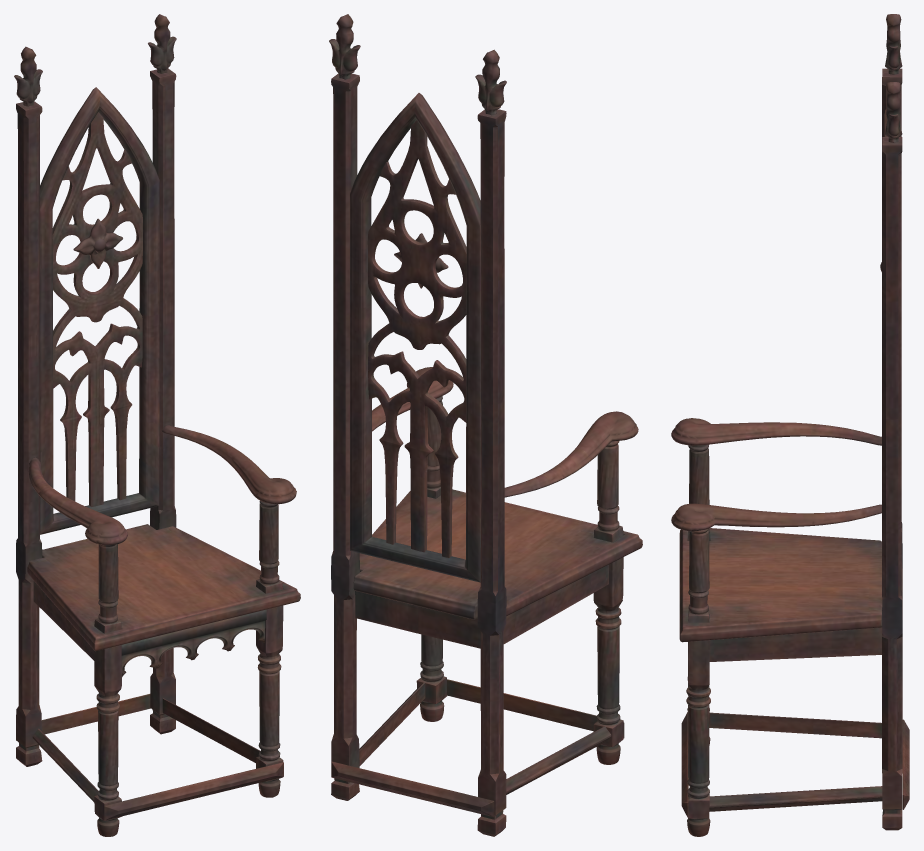
Rendered from WoodenChair_01.glb.
3 views of the same model, side by side, from view 1: azimuth 30°, elevation 25°; view 2: azimuth 150°, elevation 25°; view 3: azimuth 270°, elevation 25° (orthographic). The views are drawn at different scales.
Visible parts, largest first — view 1: WoodenChair_01; view 2: WoodenChair_01; view 3: WoodenChair_01.
Part boxes in pixels (x1=…): WoodenChair_01: x1=14, y1=14, x2=300, y2=836; WoodenChair_01: x1=329, y1=14, x2=642, y2=836; WoodenChair_01: x1=671, y1=14, x2=909, y2=836.
Bounding box in the file's own units: 0.6882 × 2.27 × 0.6585.
1 material, 1 textured.
